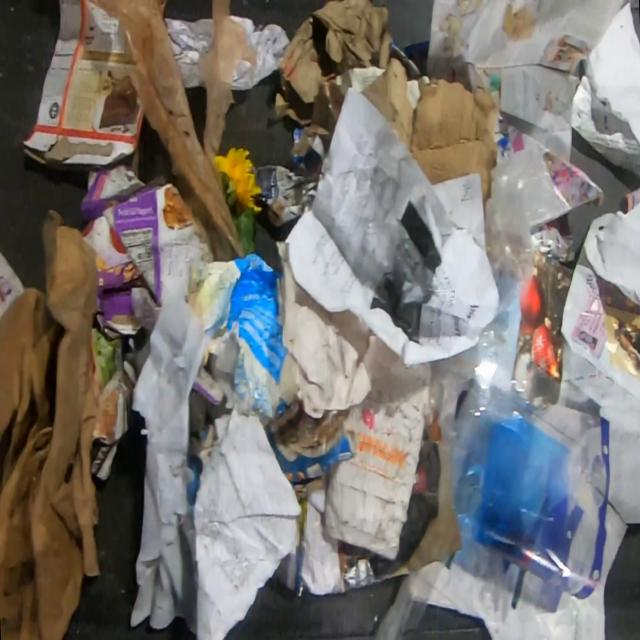cardboard: (273, 0, 500, 205), (0, 209, 103, 639), (80, 164, 216, 340), (324, 361, 430, 560), (20, 0, 142, 172), (187, 253, 296, 429), (191, 364, 224, 406)
soft_plastic: (86, 0, 259, 257), (441, 360, 611, 599), (430, 144, 568, 428)
